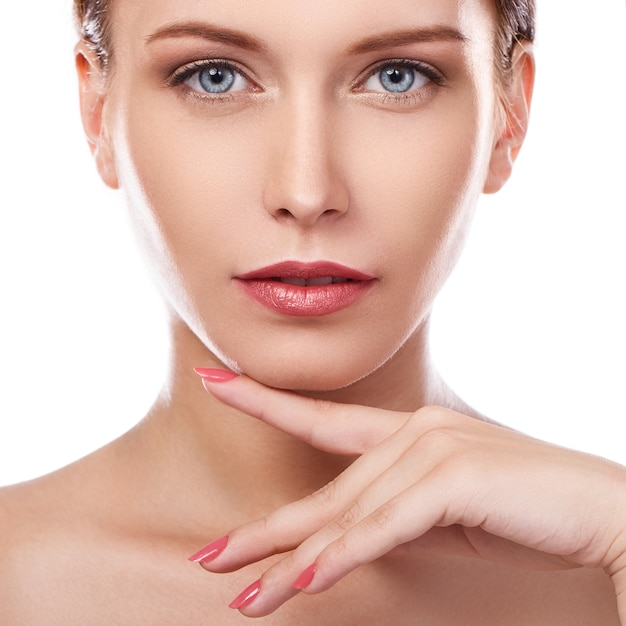young: (67, 14, 560, 387)
